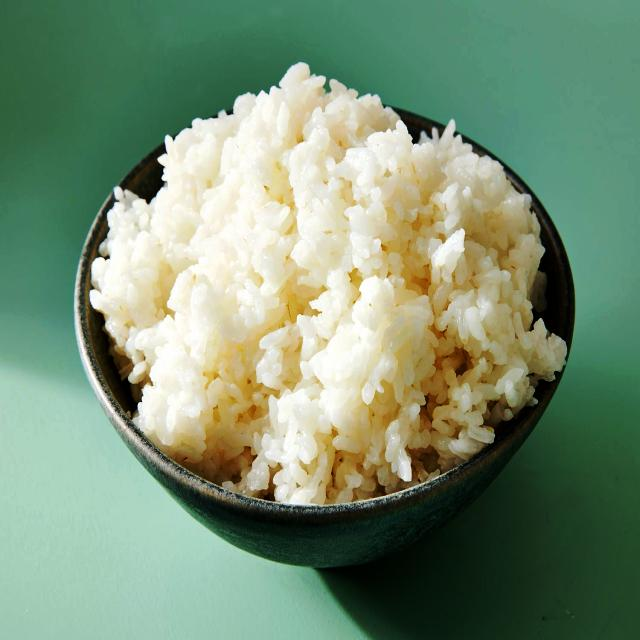rice: (93, 62, 568, 498)
